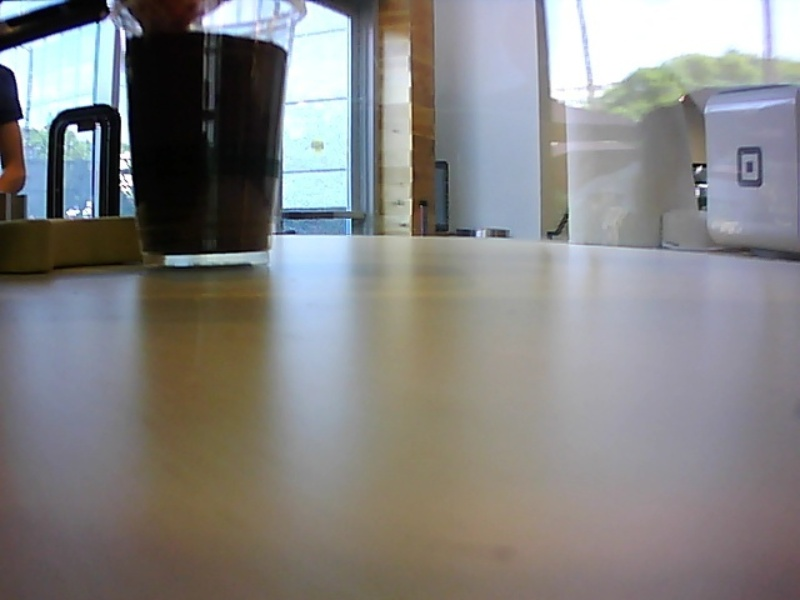cup: (104, 1, 306, 272)
limit: (125, 24, 294, 56)
